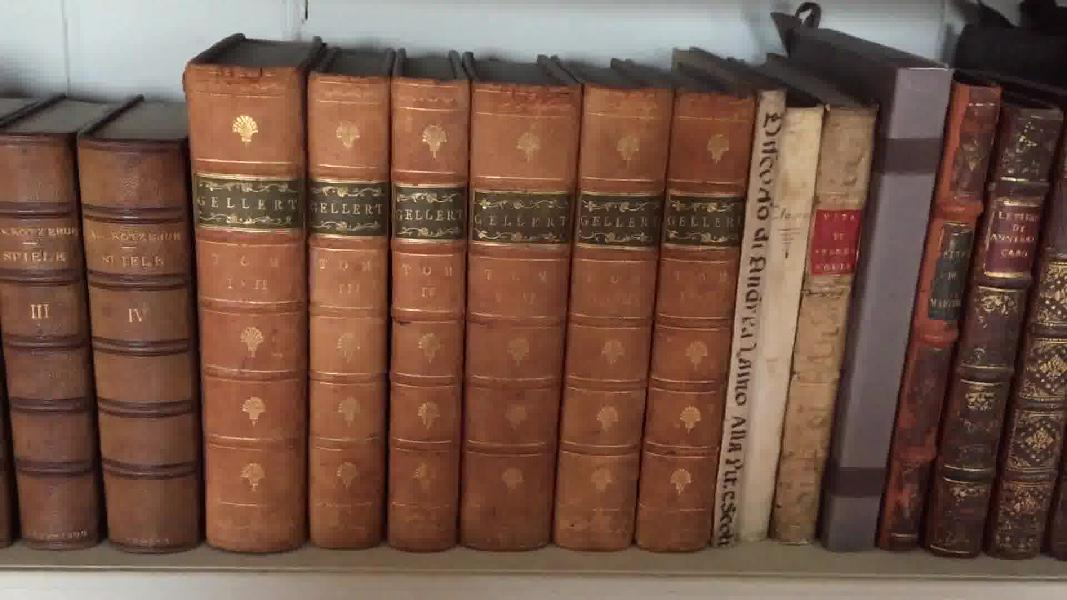Aa6-18_23: (181, 59, 751, 571)
Aa6-24: (717, 81, 781, 557)
Aa6-25: (739, 93, 828, 566)
Aa6-26: (775, 88, 889, 566)
Aa6-27: (829, 43, 938, 552)
Aa6-28: (875, 39, 996, 555)
Aa6-29: (919, 75, 1051, 547)
